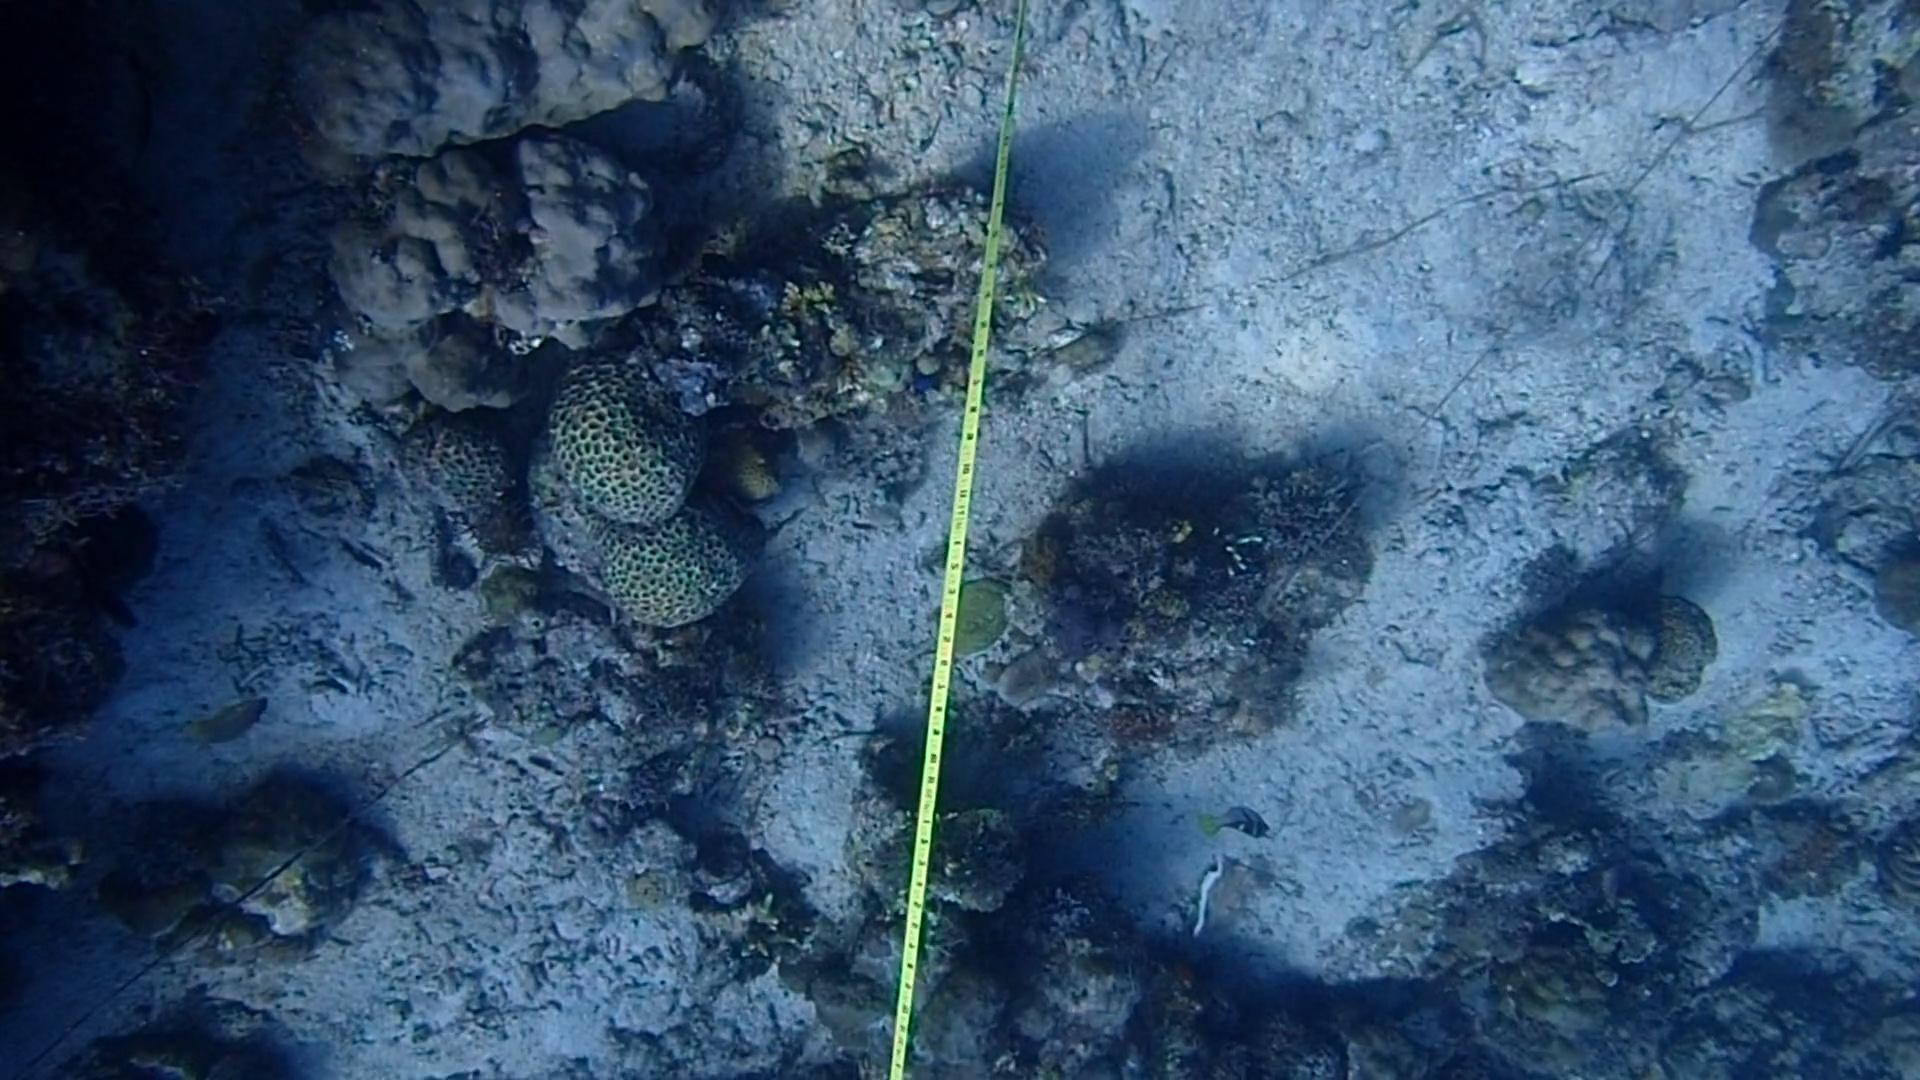Striped Fish: (1200, 798, 1283, 843)
